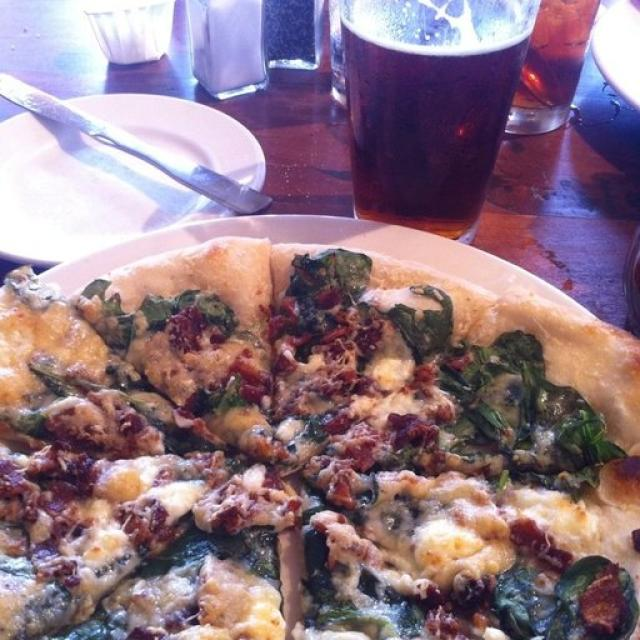Basil: (465, 340, 601, 483), (302, 534, 364, 626), (162, 534, 278, 574), (502, 576, 570, 640), (294, 246, 366, 298), (396, 285, 448, 352), (84, 281, 134, 346), (142, 288, 234, 320), (438, 361, 465, 457), (28, 362, 95, 394), (214, 378, 246, 415), (74, 614, 126, 636), (306, 412, 324, 444)
Ham: (335, 413, 439, 459), (516, 517, 570, 561), (582, 567, 620, 627), (428, 609, 462, 640)
Pizza: (0, 239, 640, 640)
